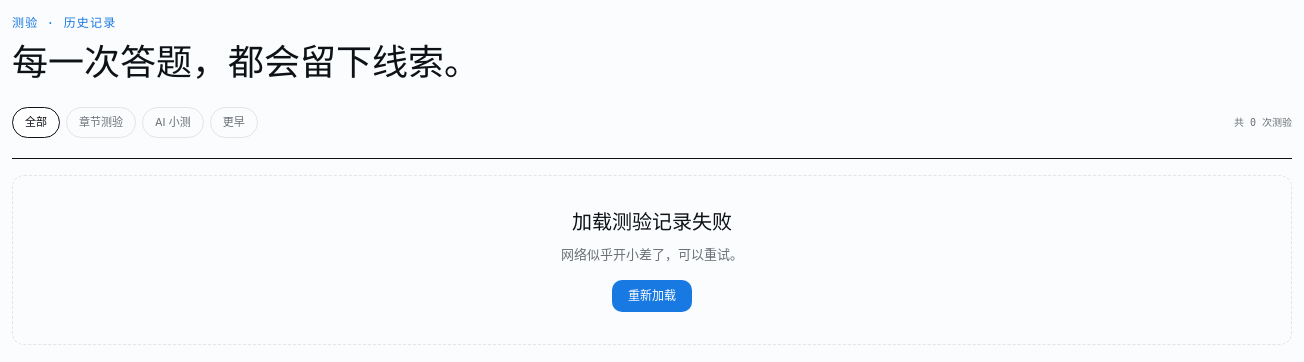
Test case: QuizzesPage 历史筛选与恢复（T15） › 加载失败显示错误并可重试
The width and height of the screenshot is (1304, 362).
Check: the heading "加载测验记录失败" is shown, box [572,211,732,233]
Click the button "重新加载": {"x": 652, "y": 296} [612,280,692,312]
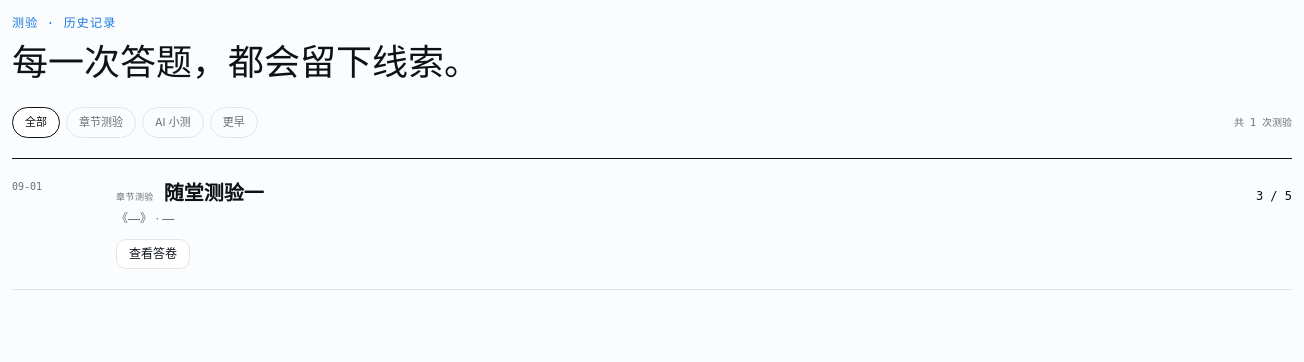
Check: the text "随堂测验一" is shown, box [164,179,264,207]
